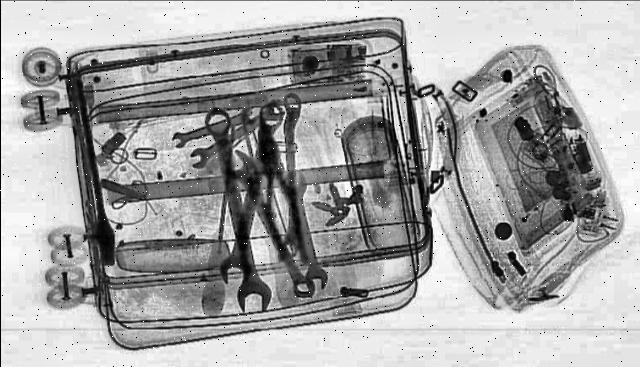Wrench: (213, 150, 327, 300), (197, 108, 276, 314), (218, 153, 282, 285), (175, 104, 292, 172), (280, 174, 332, 292), (164, 108, 268, 150), (282, 94, 304, 258)
